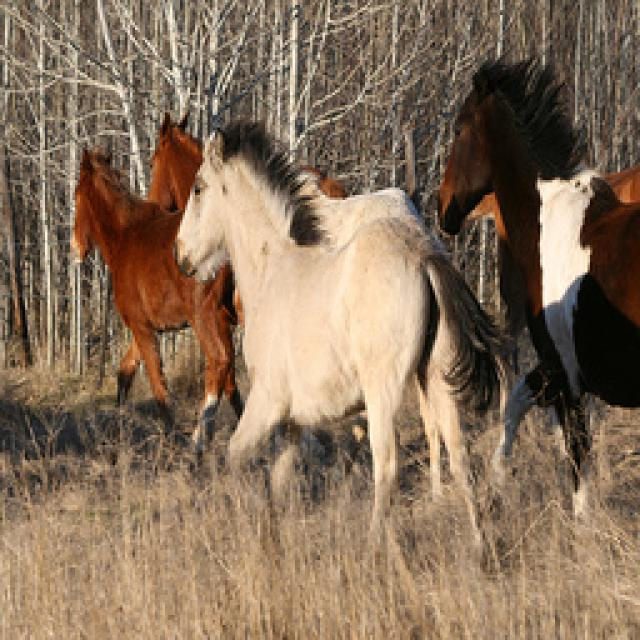not_pig: (170, 118, 510, 558), (435, 50, 637, 535), (67, 142, 245, 462), (145, 110, 345, 212)
